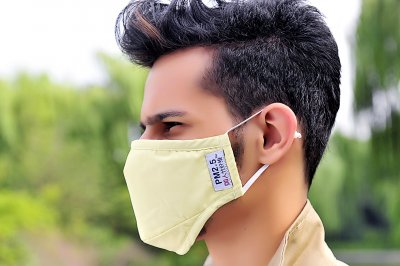face_mask: (125, 65, 246, 227)
